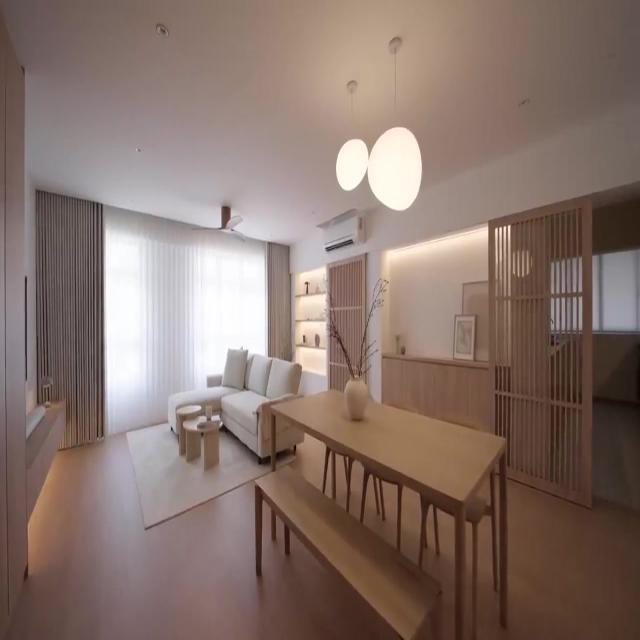obstacle: (269, 386, 508, 638), (167, 351, 327, 465)
